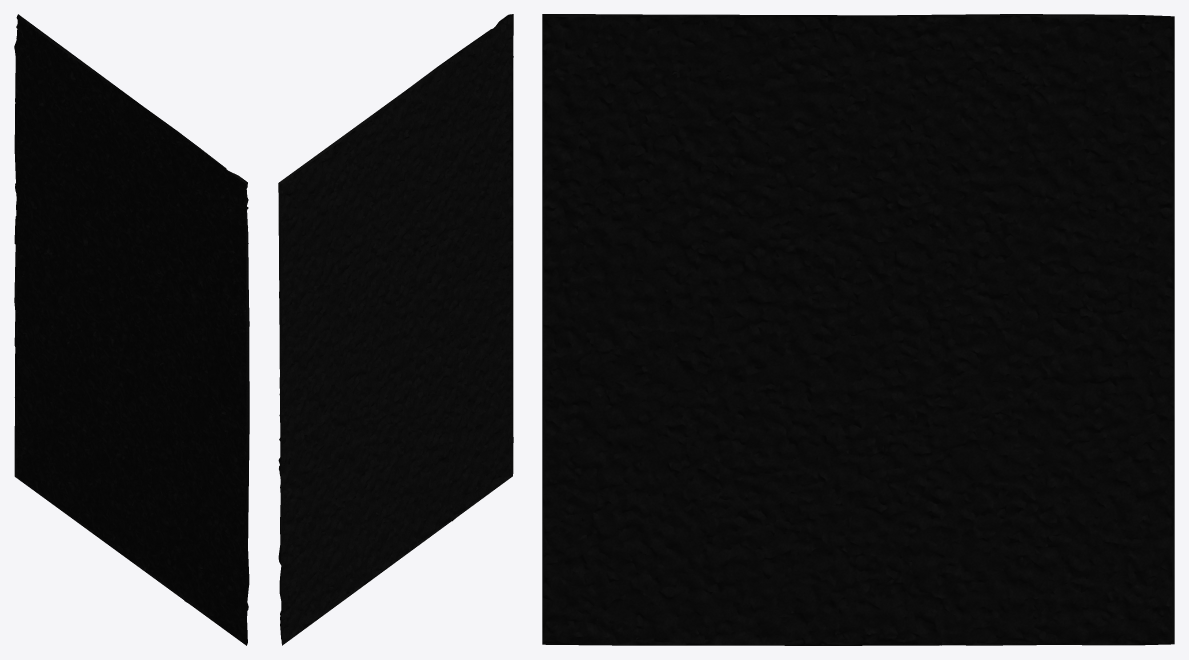
File: test_background.obj
3 views of the same model, side by side, from view 1: azimuth 30°, elevation 25°; view 2: azimuth 150°, elevation 25°; view 3: azimuth 270°, elevation 25° (orthographic). The views are drawn at different scales.
Visible parts, largest first — view 1: background; view 2: background; view 3: background.
Boxes of the visible parts, <box> form: background: <box>14,14,249,645</box>; background: <box>278,14,513,645</box>; background: <box>542,14,1174,645</box>.
Size of the model in its own units: 0.02 by 2.2 by 2.
Materials: 1 (1 with a texture image).
